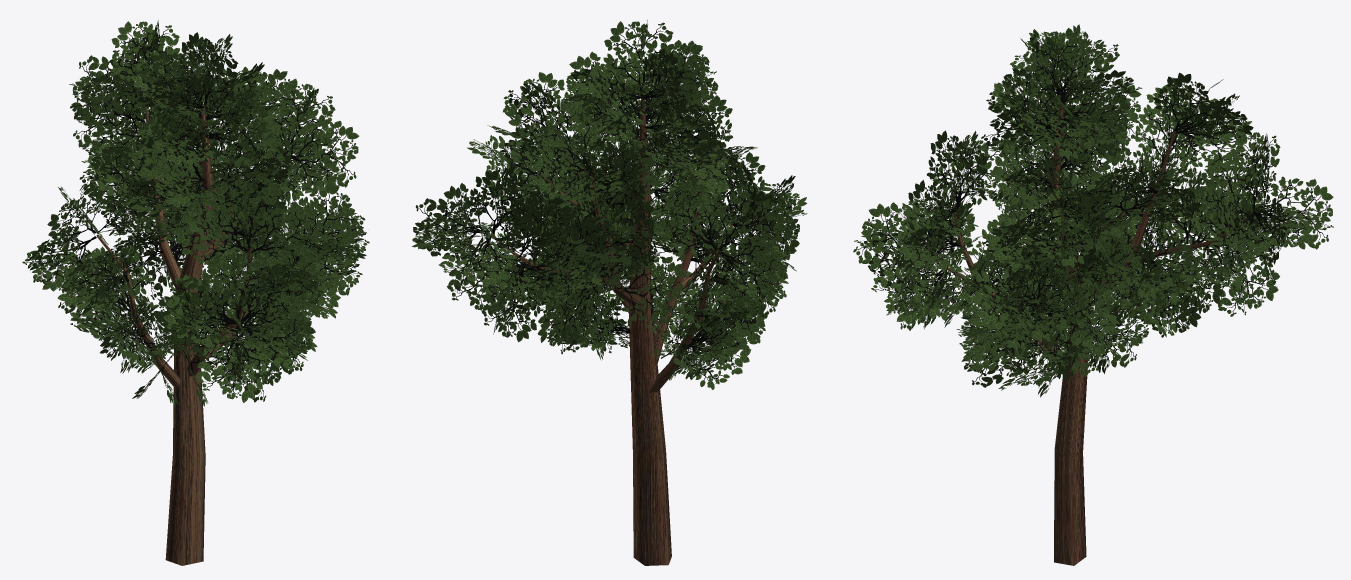
File: tree1.fbx
3 views of the same model, side by side, from view 1: azimuth 30°, elevation 25°; view 2: azimuth 150°, elevation 25°; view 3: azimuth 270°, elevation 25° (orthographic). The views are drawn at different scales.
Visible parts, largest first — view 1: polySurface29; view 2: polySurface29; view 3: polySurface29.
Boxes of the visible parts, box(x1,y1,x2,y2) form: polySurface29: box(22, 20, 369, 565); polySurface29: box(411, 20, 807, 565); polySurface29: box(853, 24, 1333, 565).
Size of the model in its own units: 3.31 by 5.25 by 4.32.
Materials: 2 (2 with a texture image).
